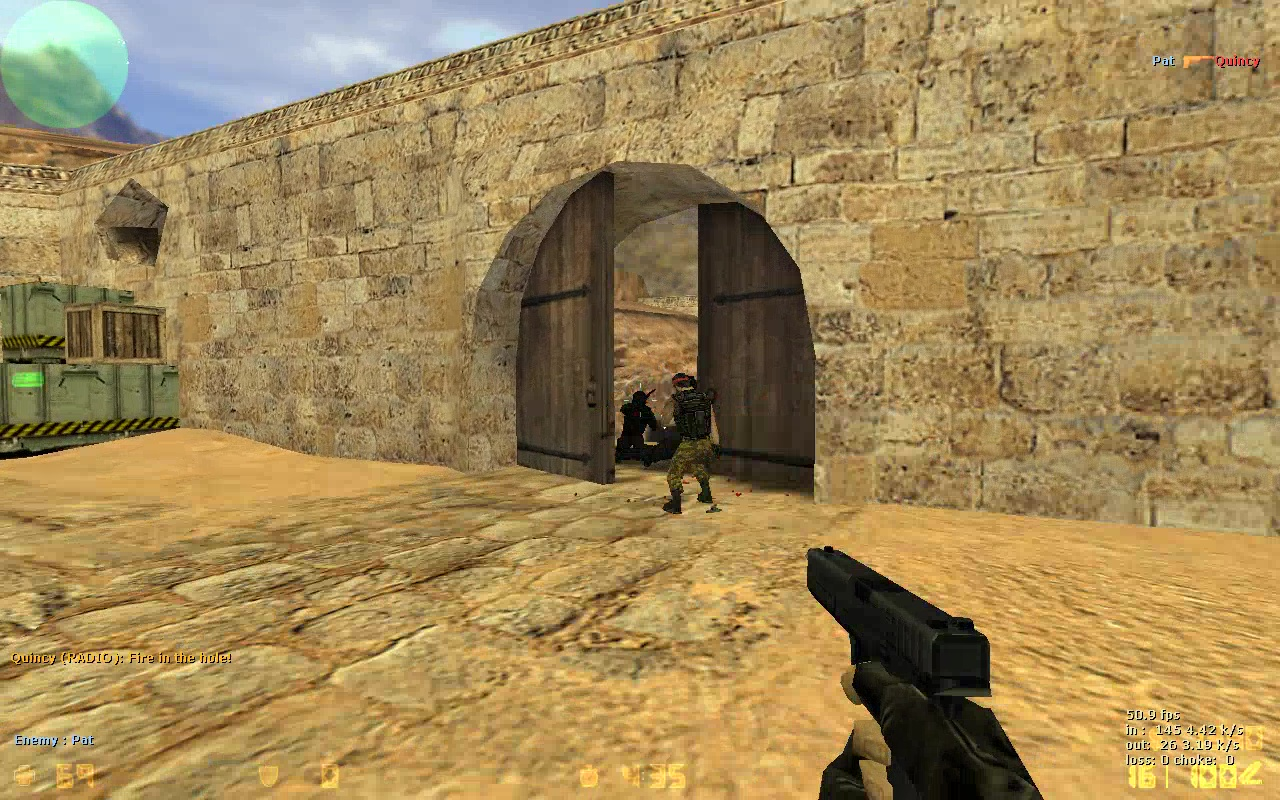ct: (618, 389, 655, 471)
terr1: (659, 374, 723, 511)
